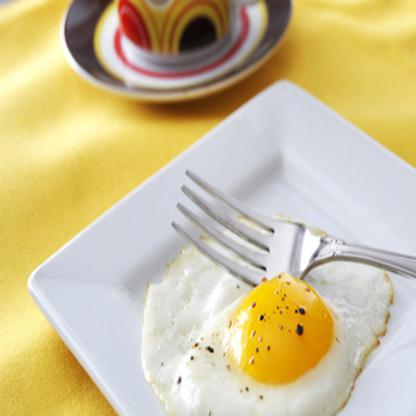egg: (141, 213, 394, 415)
